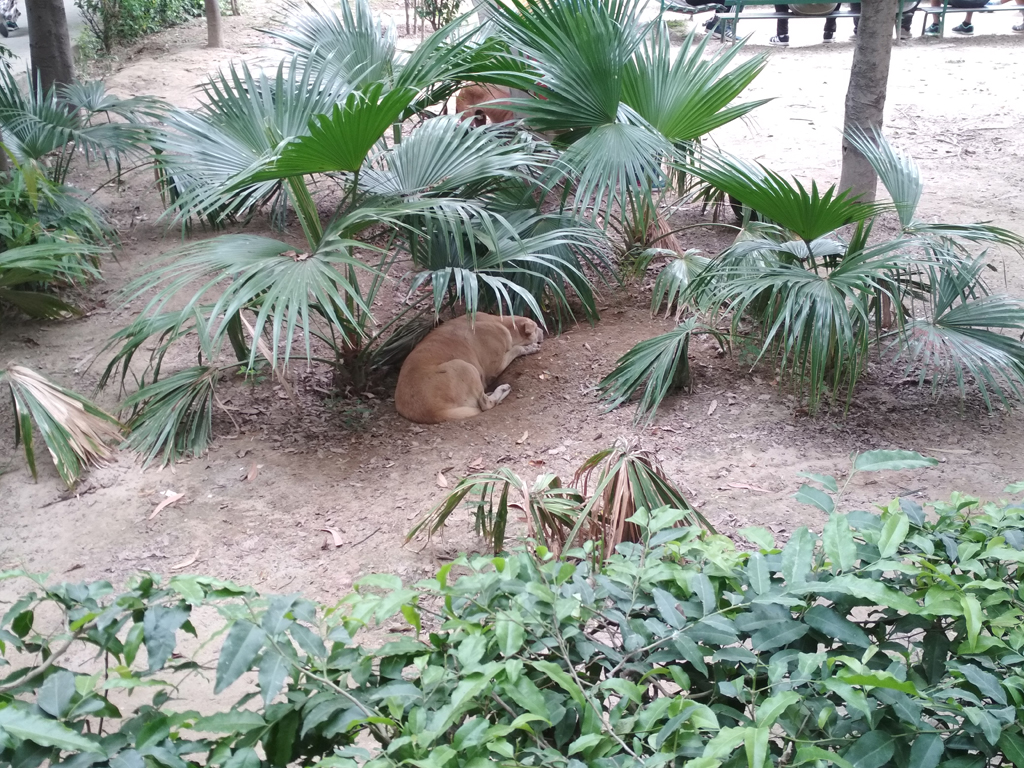dog: (394, 311, 544, 425)
